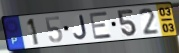1: (25, 17, 40, 46)
2: (137, 7, 161, 36)
5: (116, 9, 138, 38), (44, 15, 65, 44)
E: (89, 10, 114, 41)
J: (72, 14, 89, 41)
